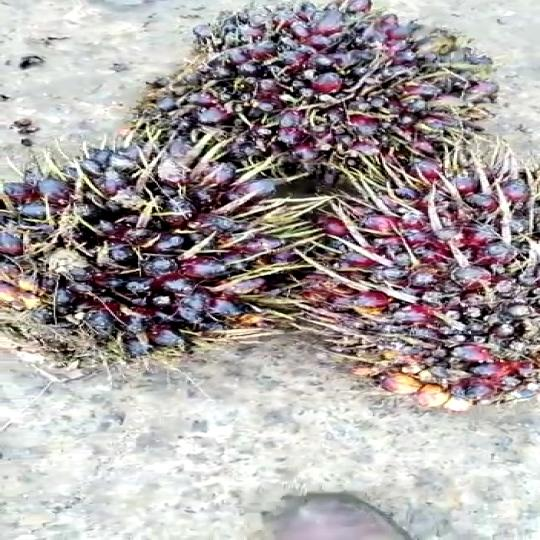kurang masak: (0, 118, 320, 354), (141, 0, 523, 186), (291, 158, 540, 414)
